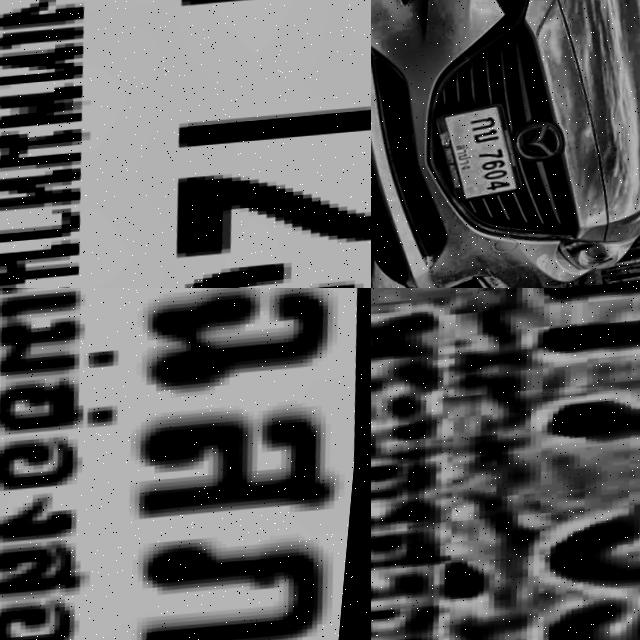license-plate: (0, 288, 371, 640), (0, 0, 371, 288), (371, 288, 640, 640), (435, 98, 537, 206)
